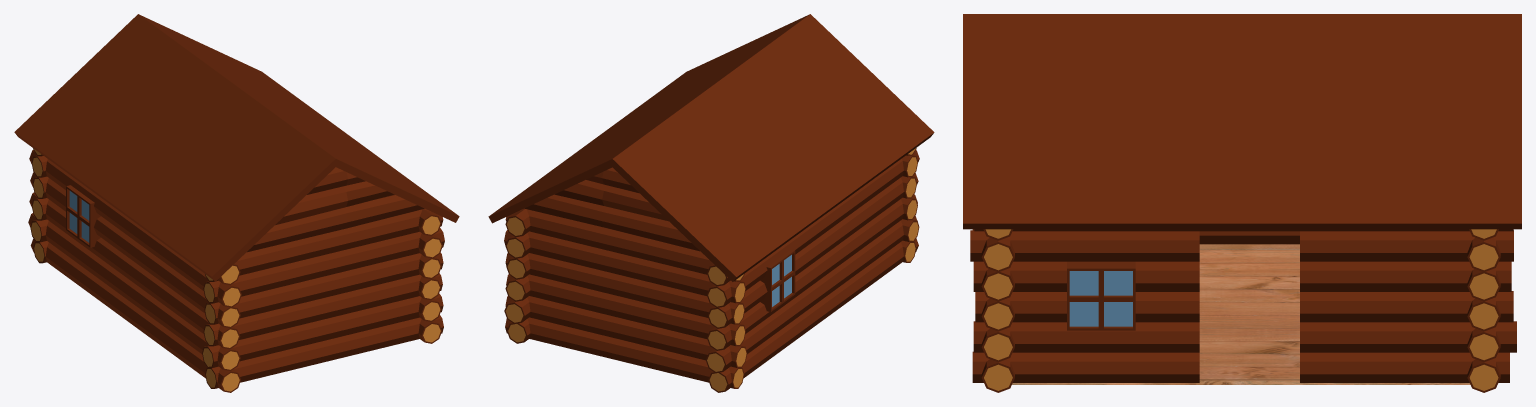
Rendered from cabin_1.fbx.
3 views of the same model, side by side, from view 1: azimuth 30°, elevation 25°; view 2: azimuth 150°, elevation 25°; view 3: azimuth 270°, elevation 25° (orthographic). The views are drawn at different scales.
Parts seen in each view (by area): view 1: roof, cabin walls, windows; view 2: roof, cabin walls, windows; view 3: roof, cabin walls, cabin floor, windows.
Part boxes in pixels (x1,y1,x2,y2): roof: [14, 14, 459, 281]; cabin walls: [28, 148, 444, 392]; windows: [66, 185, 100, 247]; roof: [488, 14, 934, 281]; cabin walls: [504, 148, 919, 392]; windows: [760, 249, 795, 311]; roof: [963, 14, 1521, 229]; cabin walls: [970, 229, 1516, 392]; cabin floor: [1012, 244, 1470, 384]; windows: [1067, 261, 1135, 330].
Bounding box in the file's own units: 689 × 563 × 952.
